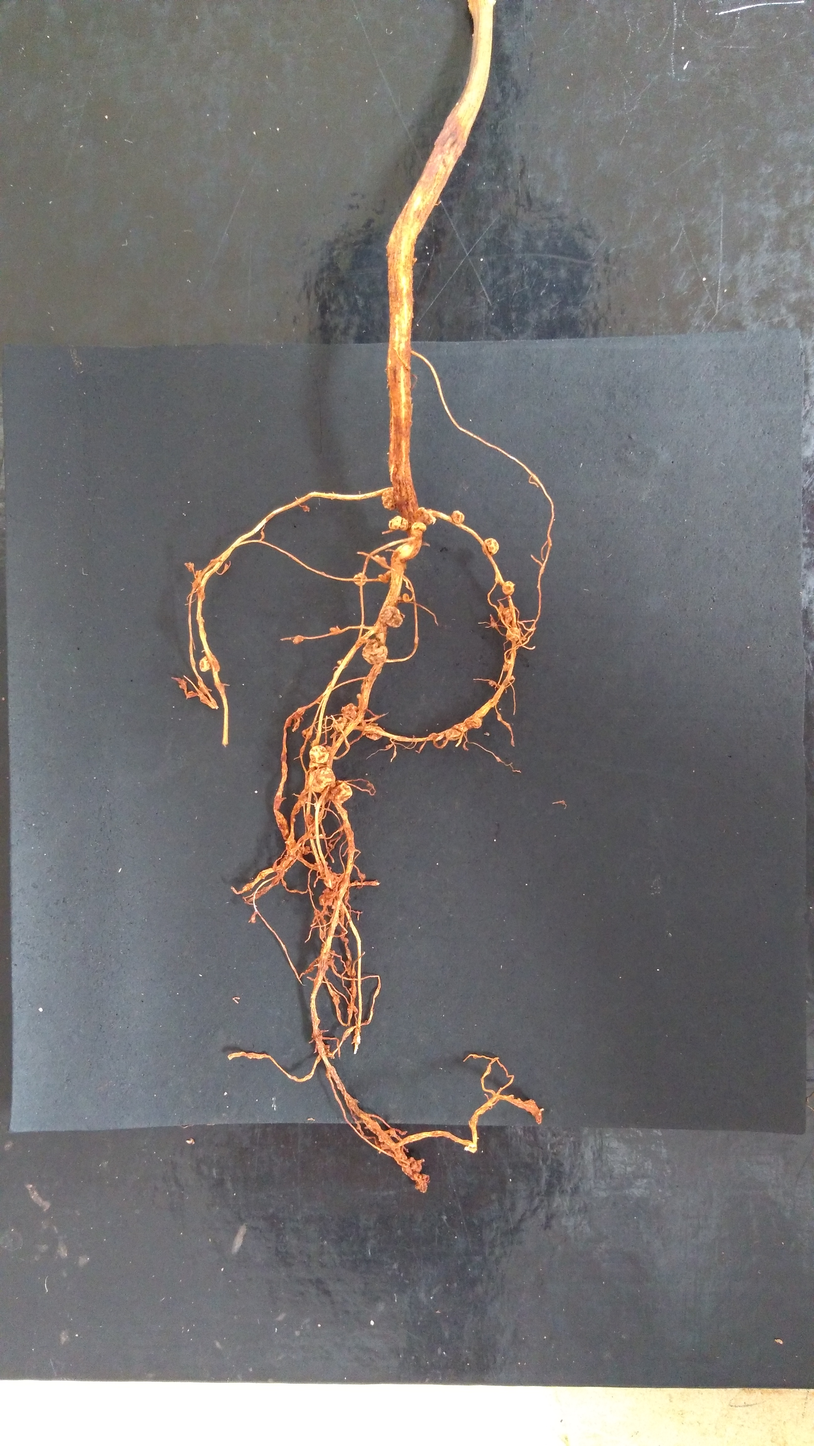nodule: (307, 767, 336, 793), (362, 638, 388, 665), (379, 605, 405, 628), (328, 780, 353, 803), (414, 507, 437, 526), (309, 745, 330, 765), (502, 606, 520, 627), (444, 725, 466, 742), (413, 1171, 429, 1193), (365, 723, 384, 741), (382, 487, 396, 511), (481, 538, 499, 556), (341, 703, 360, 720), (388, 516, 408, 532), (199, 655, 217, 672), (323, 873, 340, 890), (318, 888, 333, 907), (410, 521, 427, 537), (332, 717, 348, 734), (464, 716, 482, 730), (309, 760, 330, 772), (306, 813, 317, 835), (505, 627, 521, 642), (501, 580, 515, 596), (451, 509, 465, 524), (353, 572, 367, 587), (408, 1157, 422, 1172), (373, 555, 388, 568), (379, 570, 392, 584), (331, 891, 339, 910), (498, 602, 506, 619), (292, 635, 305, 645), (298, 793, 308, 806), (315, 860, 328, 870), (184, 561, 194, 573), (330, 626, 341, 636), (503, 659, 511, 672), (302, 845, 311, 855), (346, 967, 356, 976), (332, 995, 341, 1004), (395, 1150, 403, 1159), (403, 593, 410, 603), (302, 505, 310, 513), (347, 846, 354, 854), (488, 680, 497, 686), (301, 729, 308, 736), (358, 873, 365, 880), (497, 713, 502, 722), (336, 659, 342, 666), (319, 832, 326, 838), (356, 693, 362, 699), (292, 817, 296, 823), (329, 843, 333, 848)
